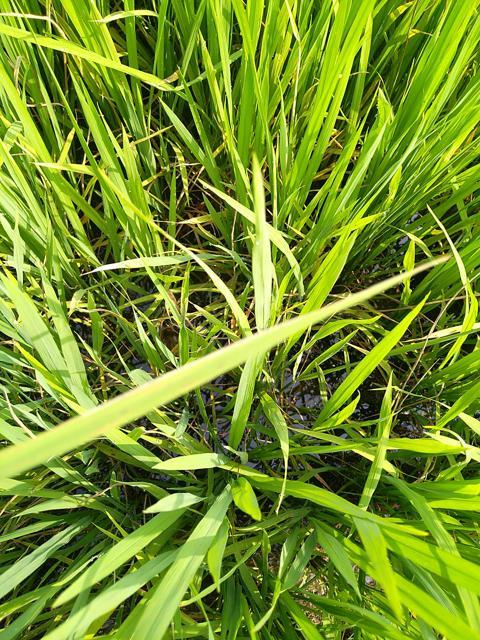Leaf Blight: (0, 281, 403, 483)
